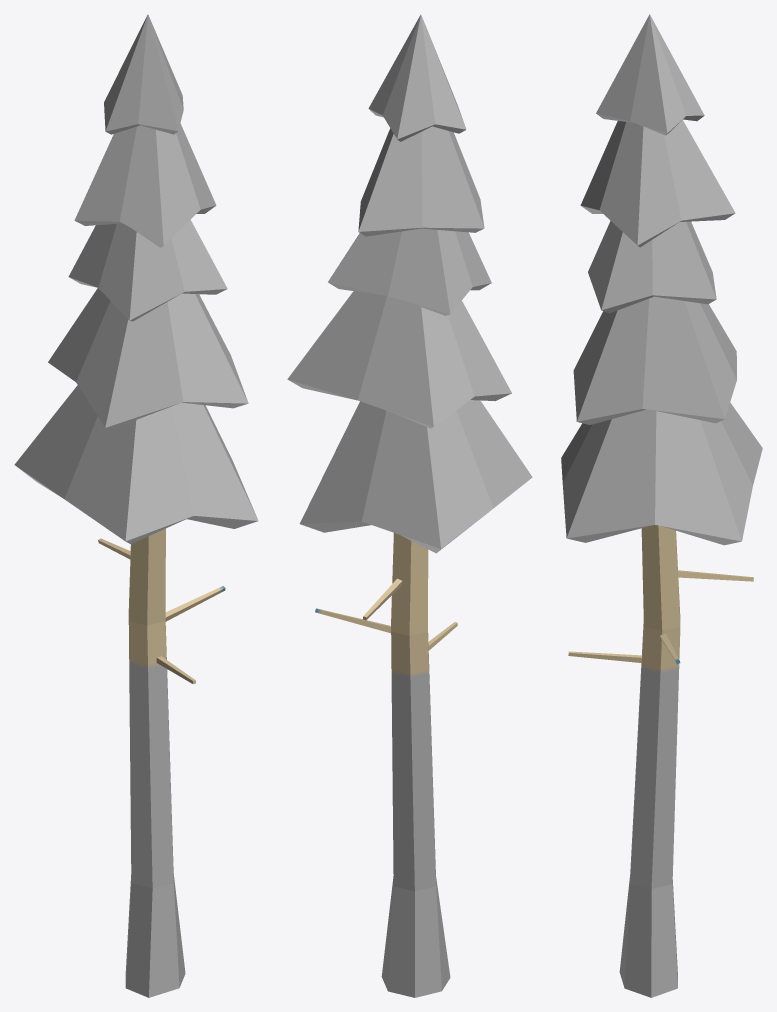
Rendered from Tree_28.fbx.
3 renders of one model, left to right at view 1: azimuth 30°, elevation 25°; view 2: azimuth 150°, elevation 25°; view 3: azimuth 270°, elevation 25°, orthographic.
Parts seen in each view (by area): view 1: Tree_28; view 2: Tree_28; view 3: Tree_28.
Boxes of the visible parts, x1,y1,x2,y2 form: Tree_28: (14,14,258,997); Tree_28: (287,14,532,997); Tree_28: (561,14,762,997).
Size of the model in its own units: 2.22 by 11.84 by 2.24.
